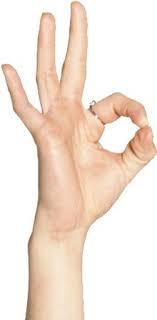Okay: (0, 0, 156, 255)
